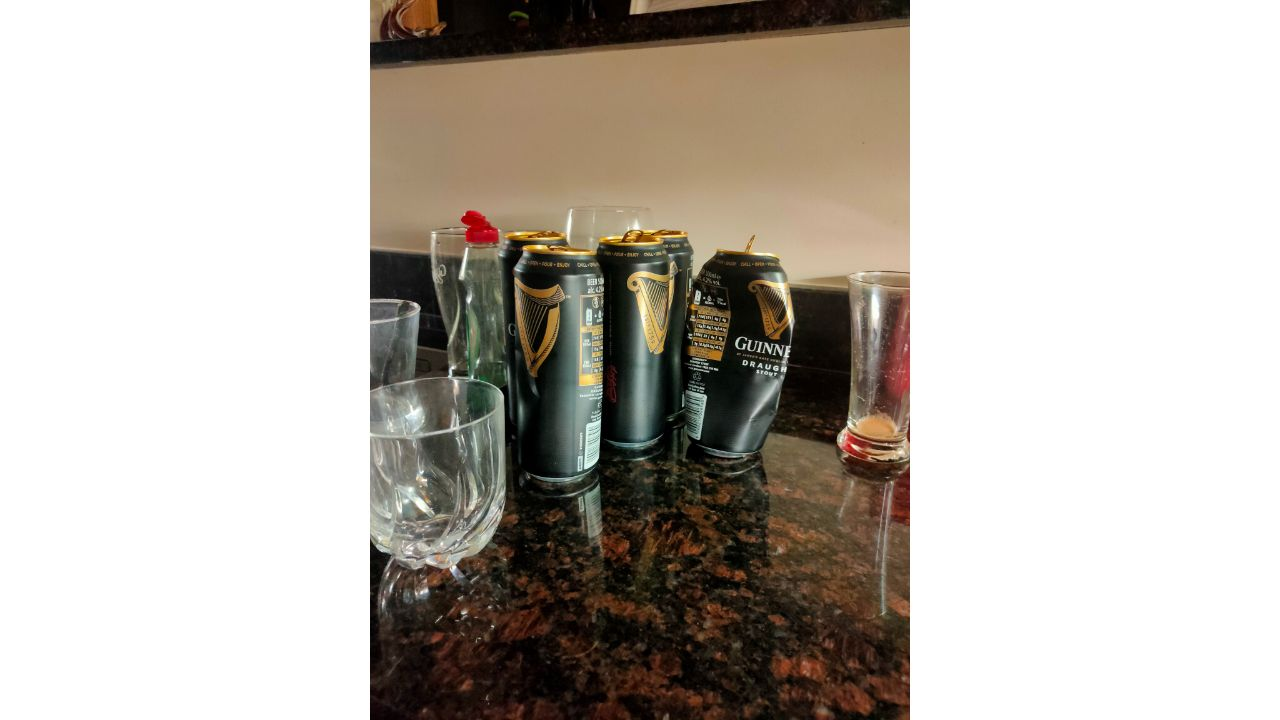Can: (687, 235, 791, 461), (511, 247, 608, 487), (600, 231, 675, 451), (504, 229, 568, 417), (645, 229, 696, 376)
